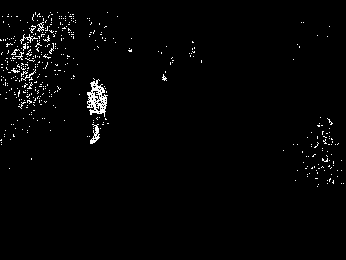person: (85, 78, 108, 145)
